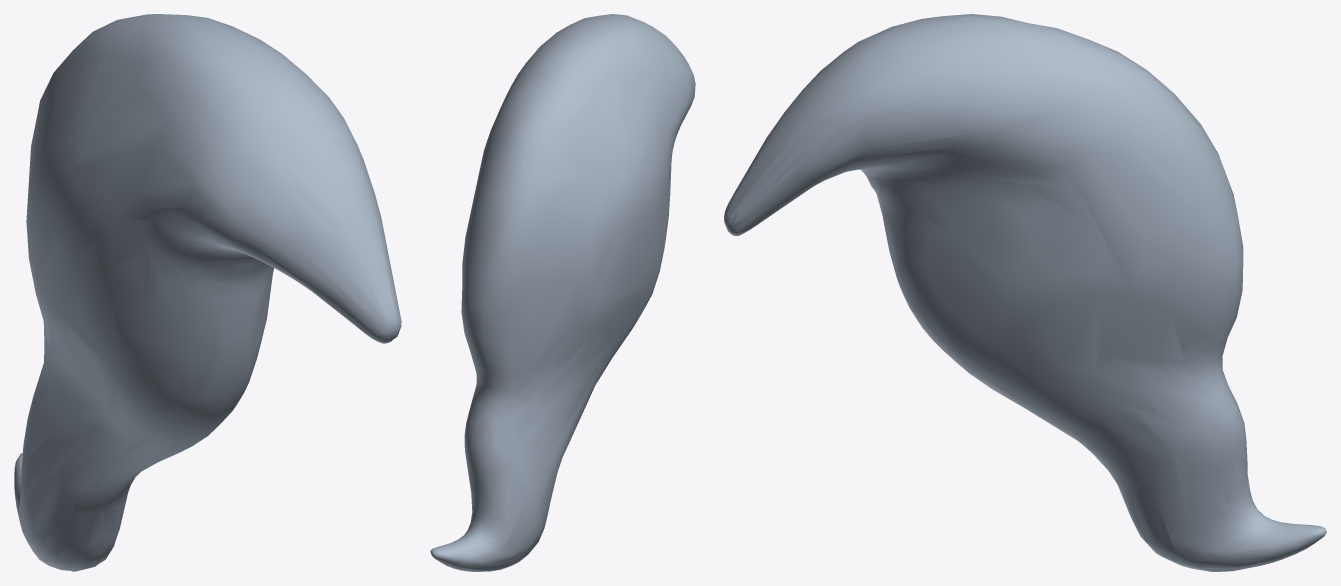
File: Tail_06.fbx
3 views of the same model, side by side, from view 1: azimuth 30°, elevation 25°; view 2: azimuth 150°, elevation 25°; view 3: azimuth 270°, elevation 25° (orthographic). The views are drawn at different scales.
Parts seen in each view (by area): view 1: Tail_06; view 2: Tail_06; view 3: Tail_06.
Part boxes in pixels (x1,y1,x2,y2): Tail_06: (14,14,401,571); Tail_06: (430,14,695,571); Tail_06: (724,14,1326,571).
Size of the model in its own units: 61.19 by 187 by 185.
